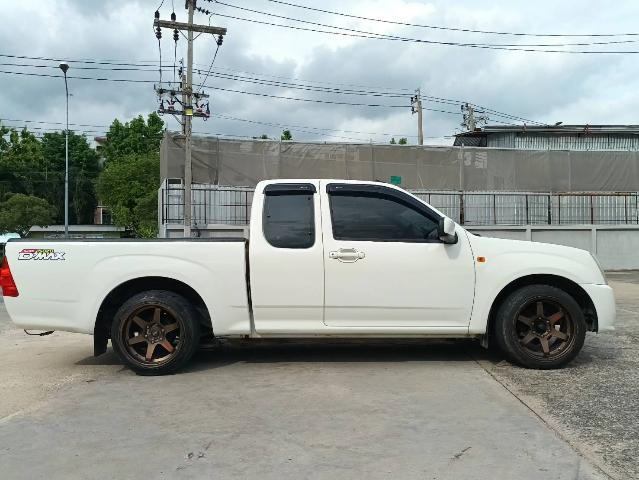pickup-truck: (0, 153, 629, 409)
